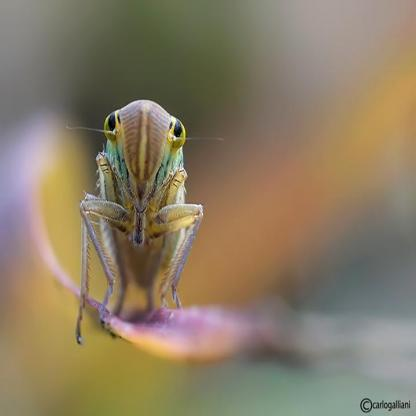Green-Leafhopper: (65, 96, 208, 346)
